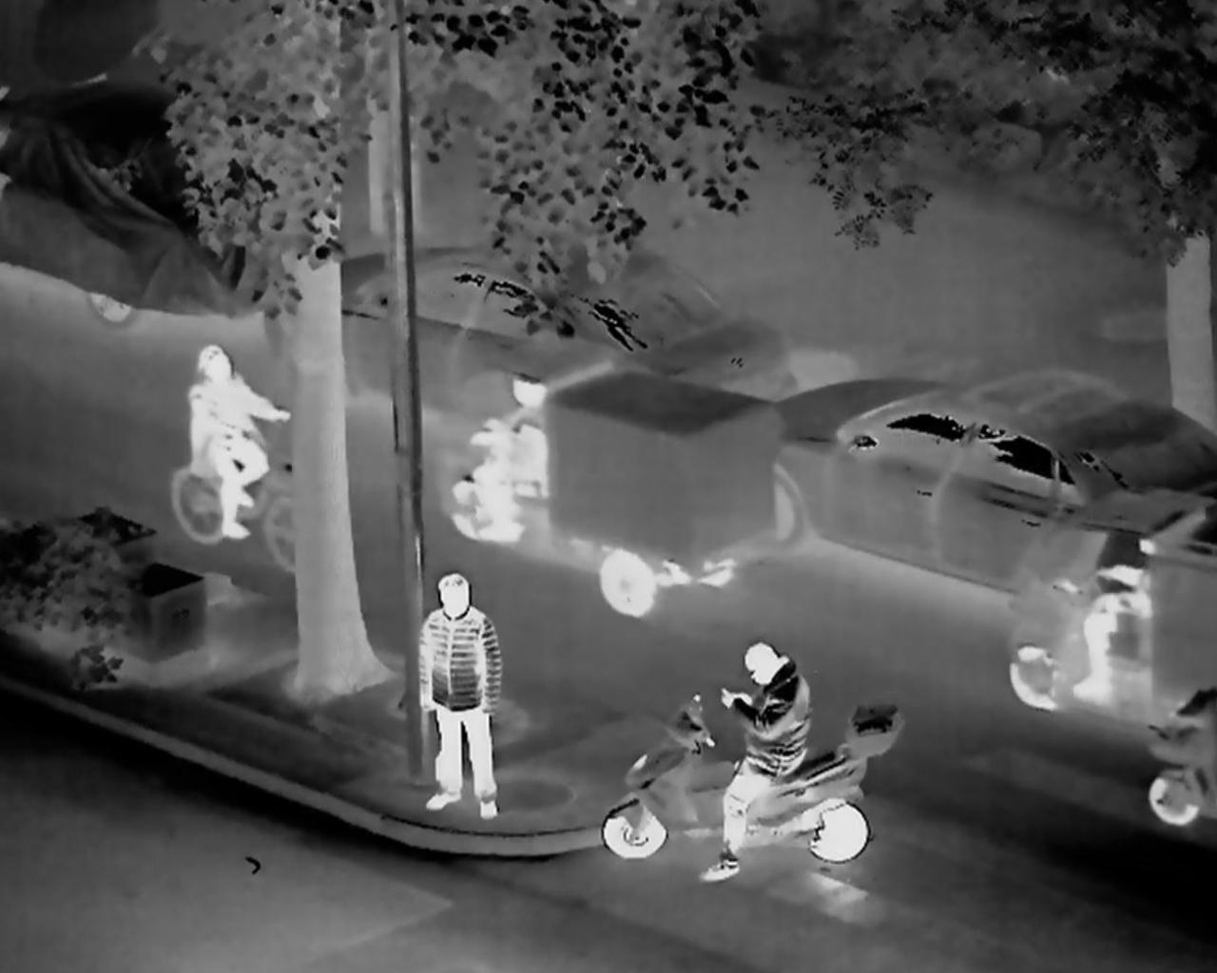person: (697, 629, 806, 899), (171, 331, 291, 553), (409, 561, 506, 819), (1072, 524, 1166, 725), (466, 372, 552, 544)
